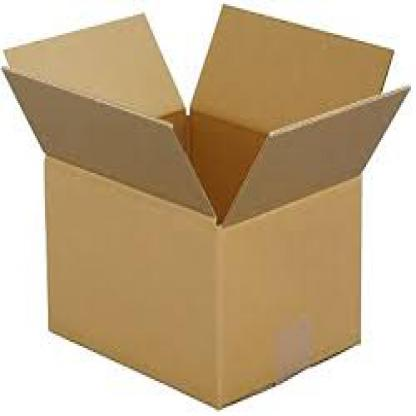CARDBOARD: (0, 0, 410, 406)
